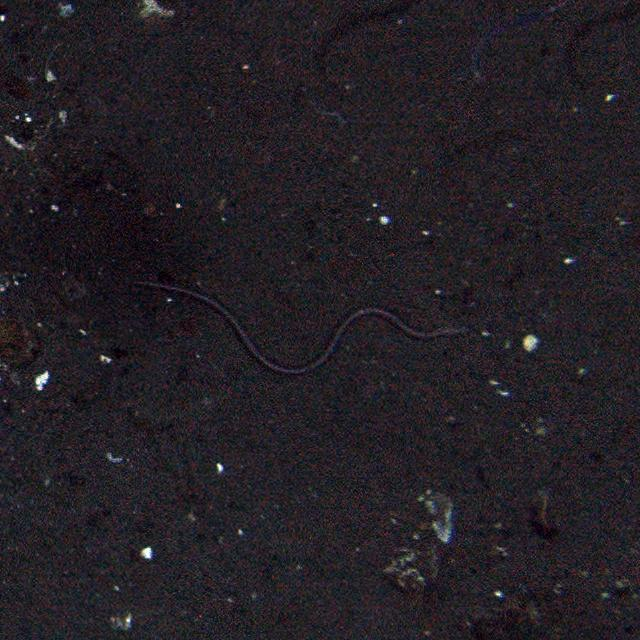eel: (129, 278, 474, 381)
